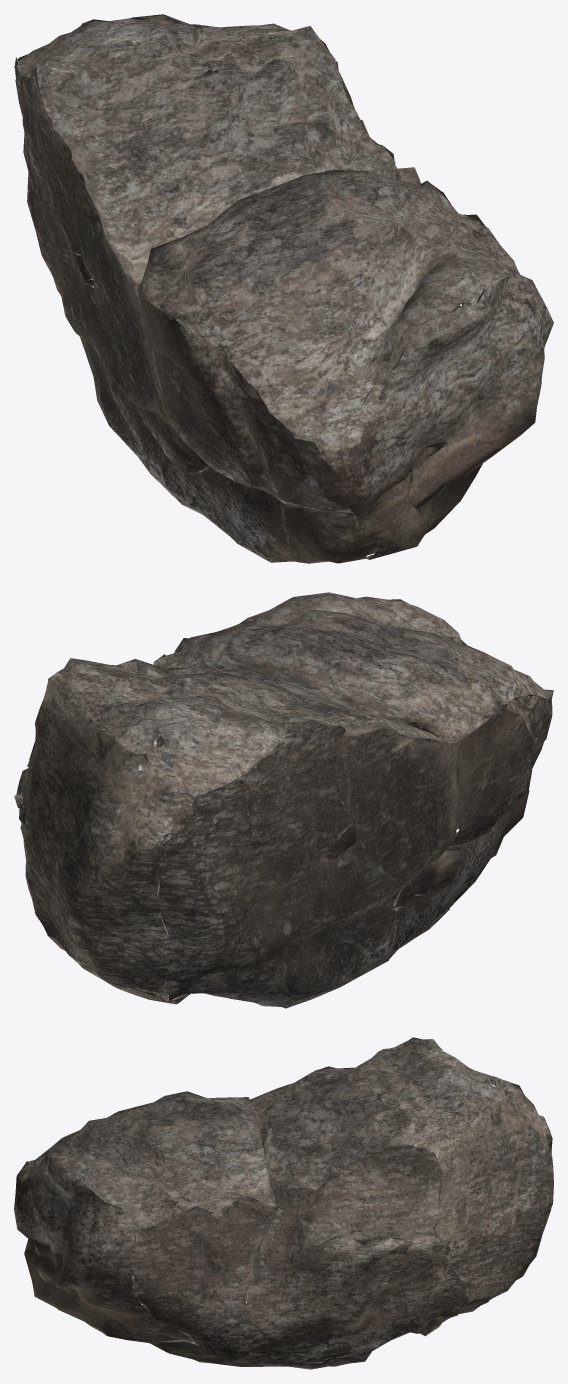
File: granite_boulder_e.gltf
3 renders of one model, top to bottom at view 1: azimuth 30°, elevation 25°; view 2: azimuth 150°, elevation 25°; view 3: azimuth 270°, elevation 25°, orthographic. The views are drawn at different scales.
Visible parts, largest first — view 1: granite_boulder_e; view 2: granite_boulder_e; view 3: granite_boulder_e.
Boxes of the visible parts, bbox=[...] form: granite_boulder_e: bbox=[14, 14, 553, 563]; granite_boulder_e: bbox=[14, 592, 553, 1008]; granite_boulder_e: bbox=[14, 1037, 553, 1369].
Size of the model in its own units: 0.6713 by 0.6494 by 1.21.
1 material, 1 textured.
